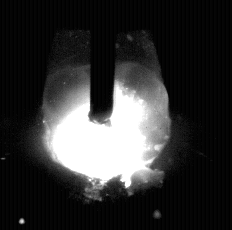arame: (91, 0, 114, 125)
poca: (41, 0, 171, 230)
